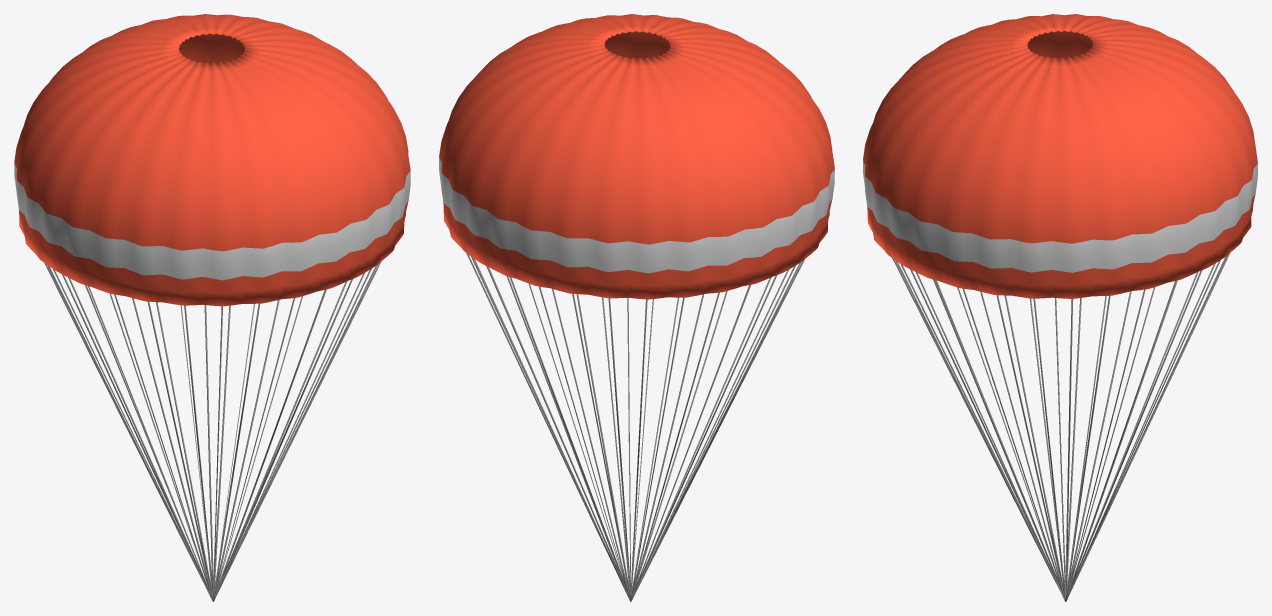
The model's file is parachute_offset.glb.
3 views of the same model, side by side, from view 1: azimuth 30°, elevation 25°; view 2: azimuth 150°, elevation 25°; view 3: azimuth 270°, elevation 25° (orthographic).
Visible parts, largest first — view 1: parachute1; view 2: parachute1; view 3: parachute1.
Part boxes in pixels (left/top/right/bottom): parachute1: left=14, top=14, right=410, bottom=601; parachute1: left=439, top=14, right=834, bottom=601; parachute1: left=863, top=14, right=1257, bottom=601.
Size of the model in its own units: 5.65 by 8.77 by 5.64.
